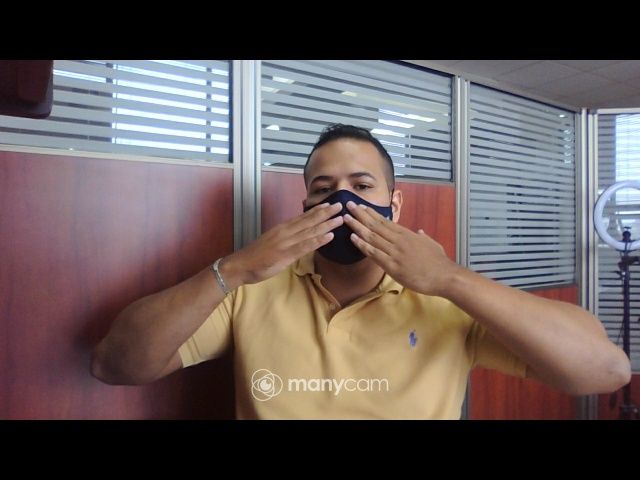Thanks: (228, 198, 464, 290)
